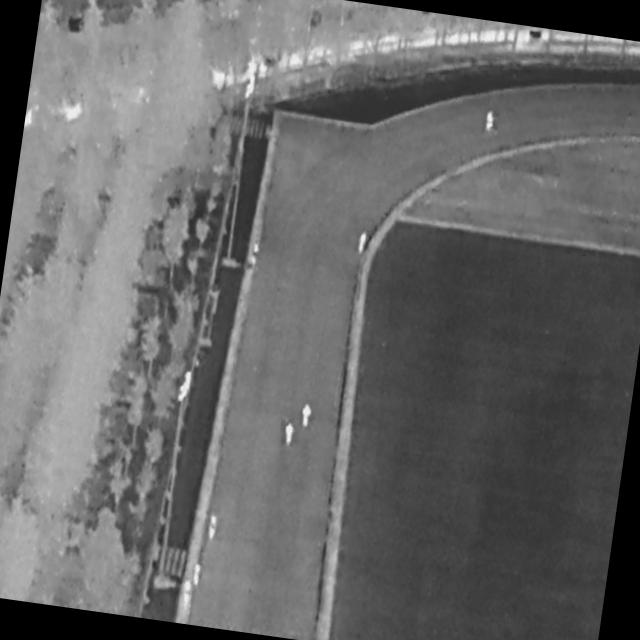person: (301, 402, 314, 429), (182, 579, 195, 606), (207, 514, 219, 542), (285, 421, 296, 447), (193, 562, 204, 587), (359, 229, 369, 255), (485, 110, 496, 133), (252, 237, 262, 257)
